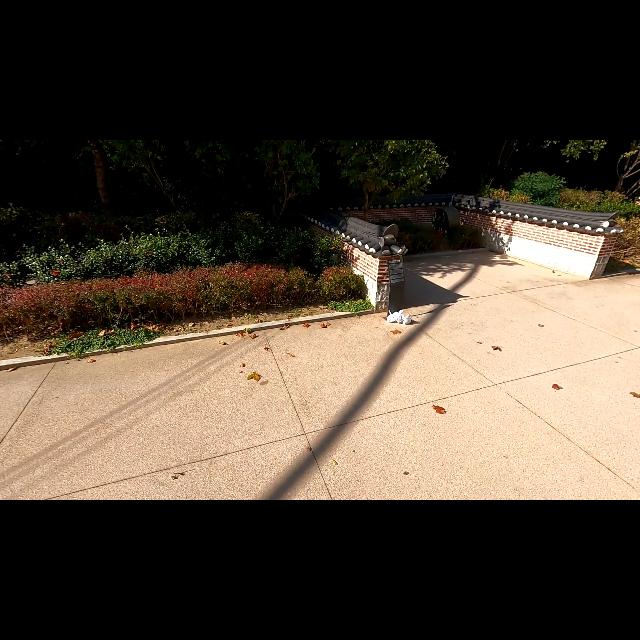trash: (393, 310, 405, 324), (400, 312, 412, 326), (386, 310, 399, 322)
